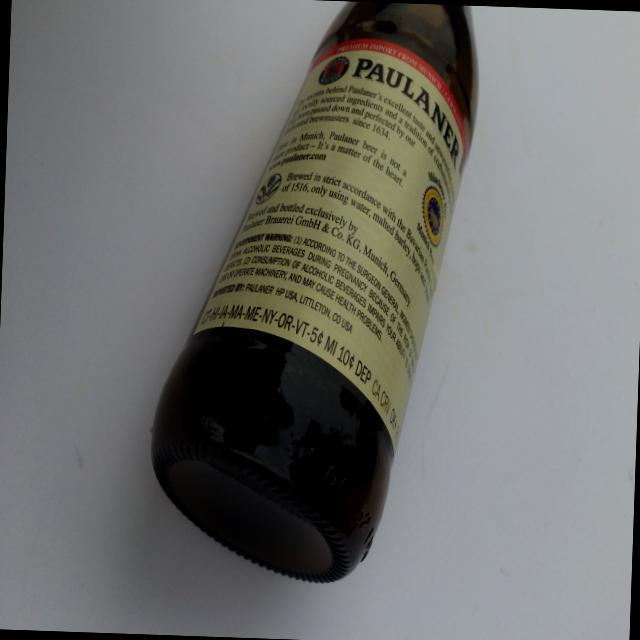Glass: (146, 0, 484, 592)
